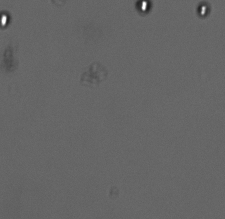Living Cell: (134, 1, 153, 14), (197, 1, 212, 17), (1, 13, 11, 32)
